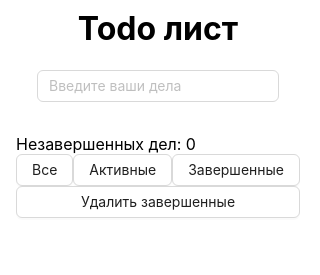
добавление новой задачи
Type "Новая задача" into the field with placeholder "Введите ваши дела" at (158, 86), box [37,70,279,102]
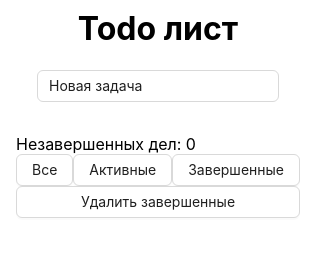
Press Enter in the field with placeholder "Введите ваши дела", box [37,70,279,102]
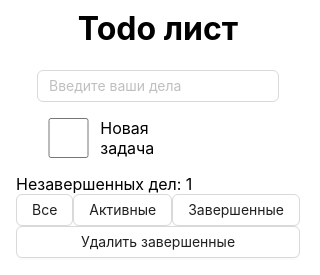
Check: the text "Новая задача" is shown, box [100,118,157,158]
